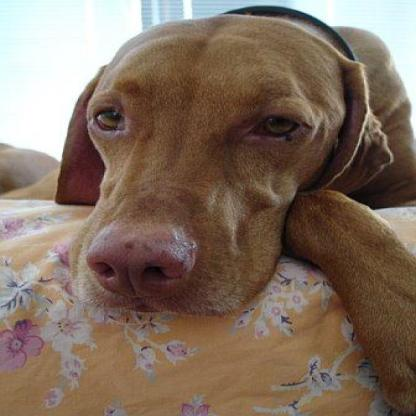vizsla: (50, 3, 413, 413)
